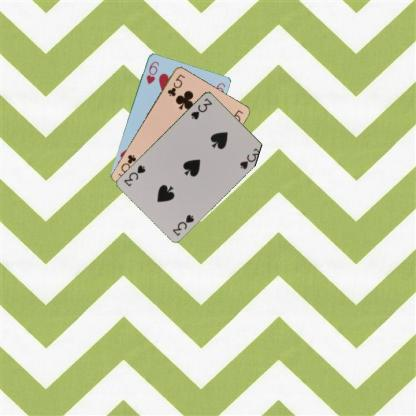3s: (188, 95, 214, 121), (170, 211, 195, 237)
5c: (165, 72, 186, 97)
6h: (144, 58, 160, 86)
